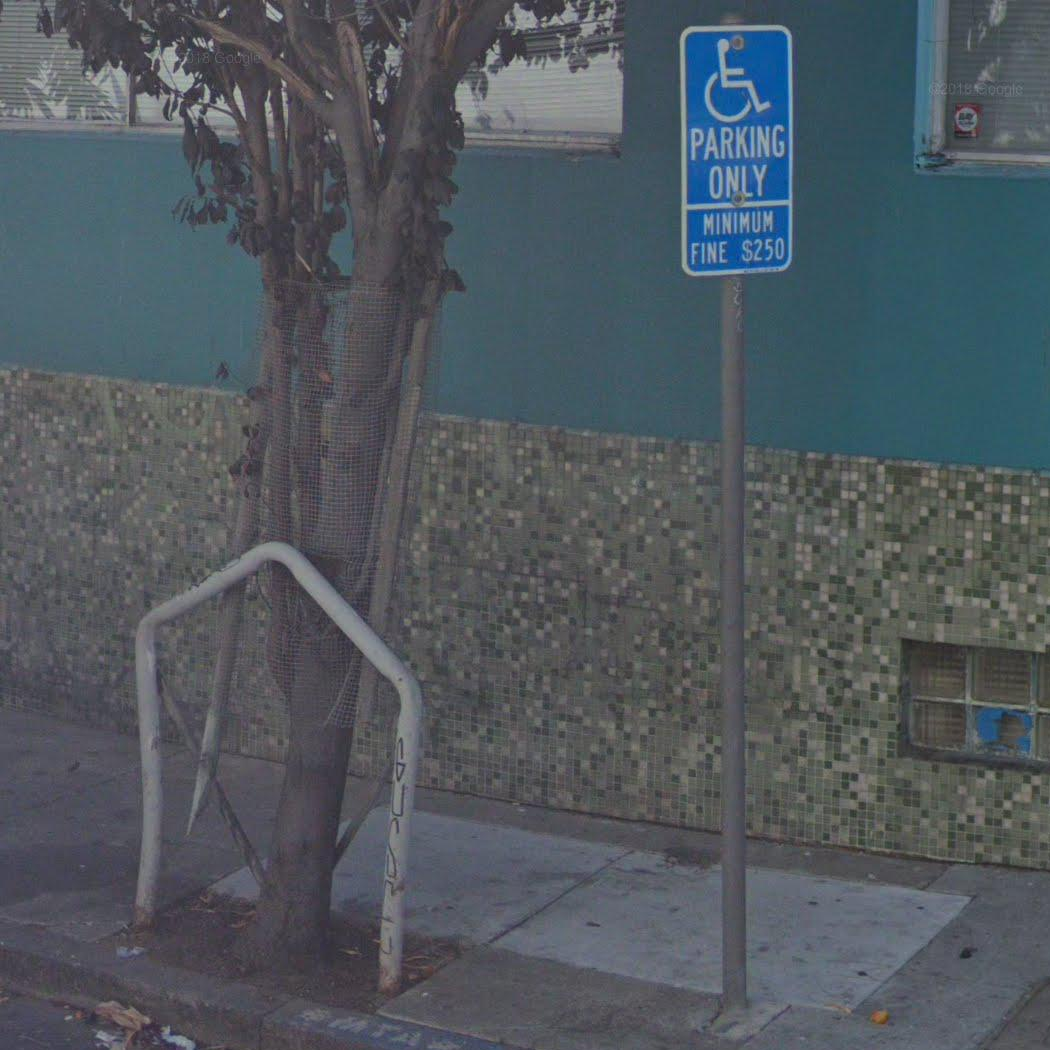Disabled Parking Only: (675, 22, 799, 278)
